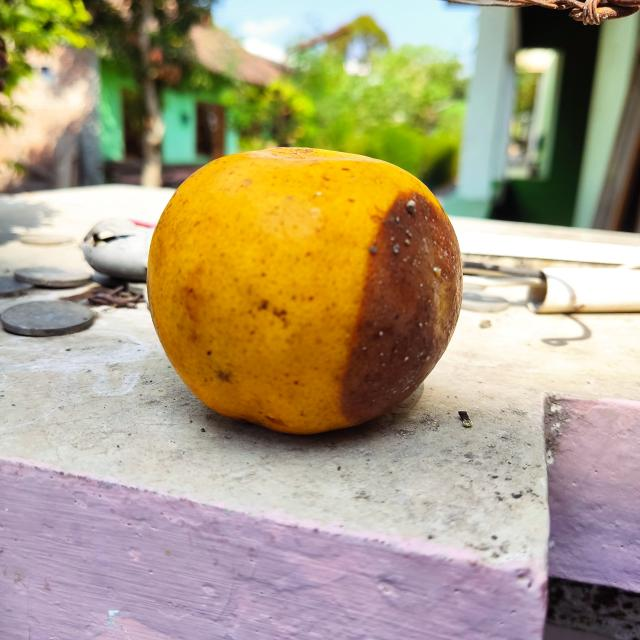orange: (145, 145, 462, 434)
